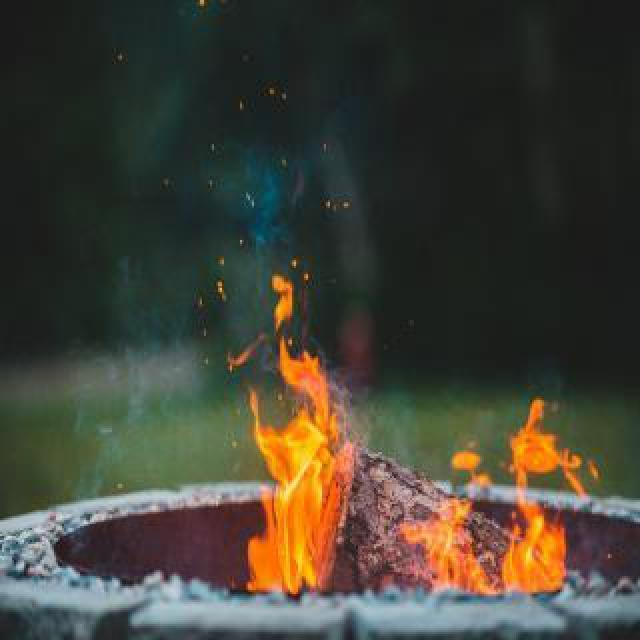Fire: (222, 256, 356, 592), (408, 376, 590, 600)
